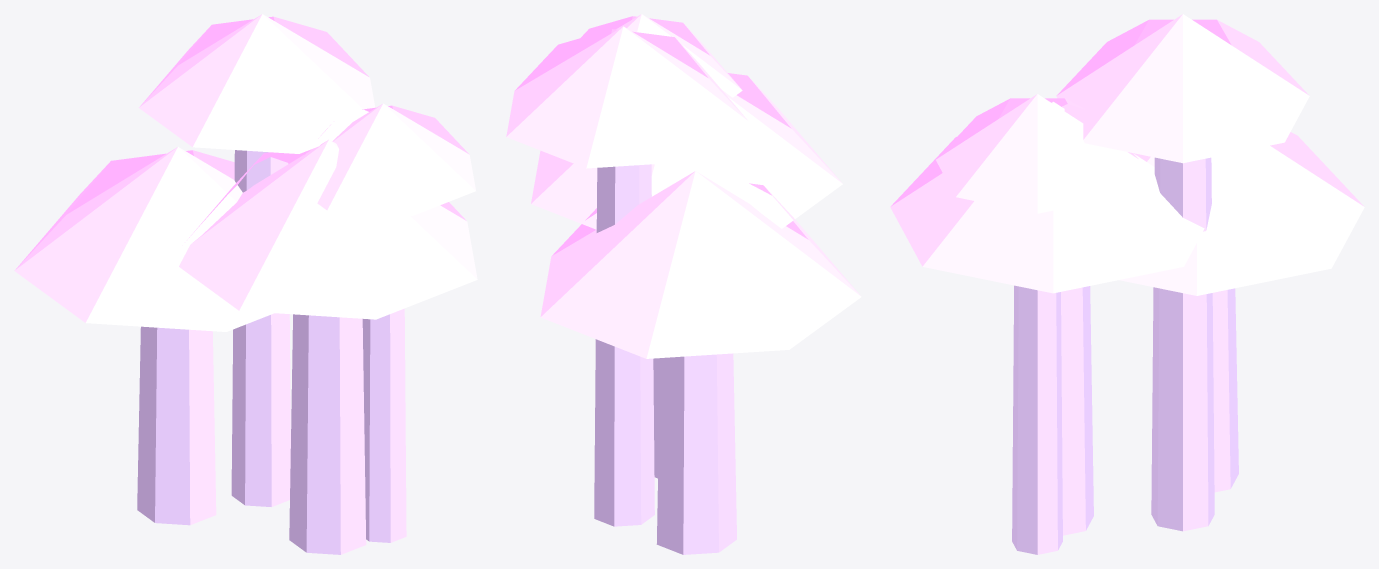
File: mushroom_cluster.glb
3 views of the same model, side by side, from view 1: azimuth 30°, elevation 25°; view 2: azimuth 150°, elevation 25°; view 3: azimuth 270°, elevation 25° (orthographic). The views are drawn at different scales.
Parts seen in each view (by area): view 1: mushroom_cluster; view 2: mushroom_cluster; view 3: mushroom_cluster.
Boxes of the visible parts, x1,y1,x2,y2 form: mushroom_cluster: (14, 14, 477, 554); mushroom_cluster: (506, 14, 861, 554); mushroom_cluster: (890, 14, 1364, 554).
Size of the model in its own units: 0.189 by 0.2489 by 0.2126.
